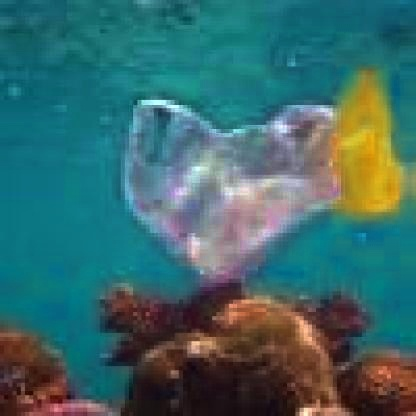pbag: (112, 66, 416, 283)
